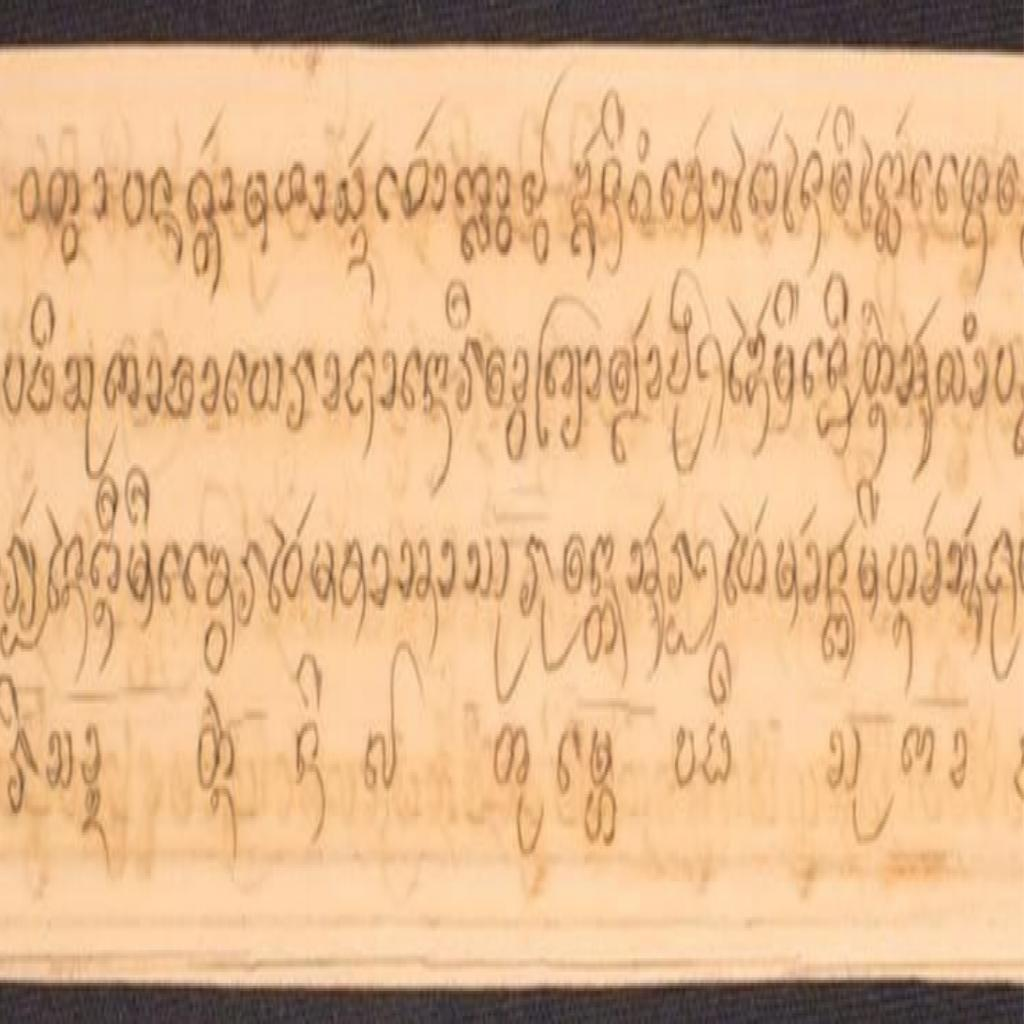LN013: (701, 715, 734, 794)
LN019: (492, 720, 533, 794)
LN024: (674, 721, 699, 797)
LN031: (774, 532, 802, 636)
